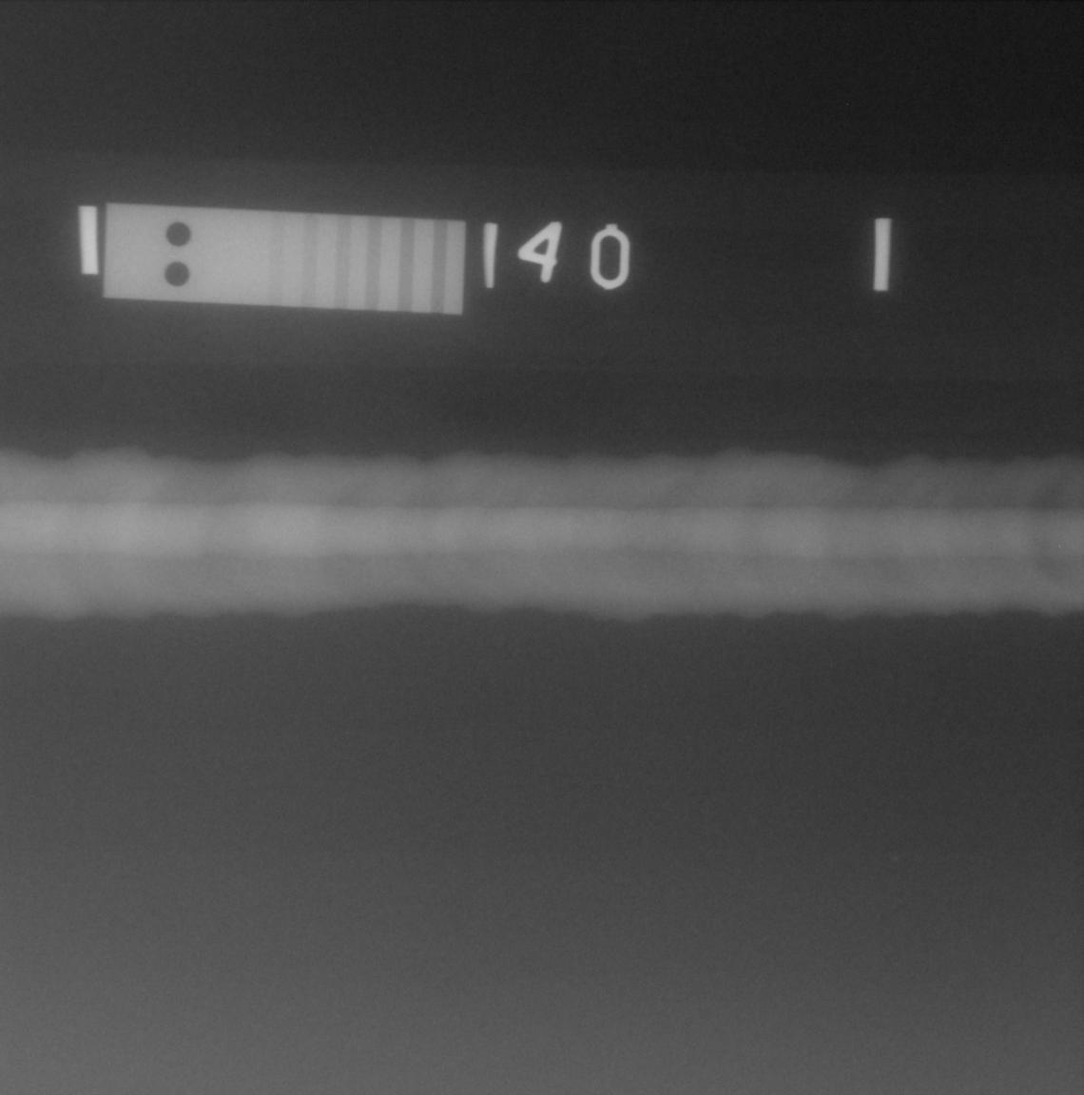Pore/Porosity: (1027, 508, 1033, 512), (996, 535, 1000, 539), (981, 520, 985, 524), (1034, 539, 1038, 542)
Reference Standard 2: (103, 203, 467, 315)
